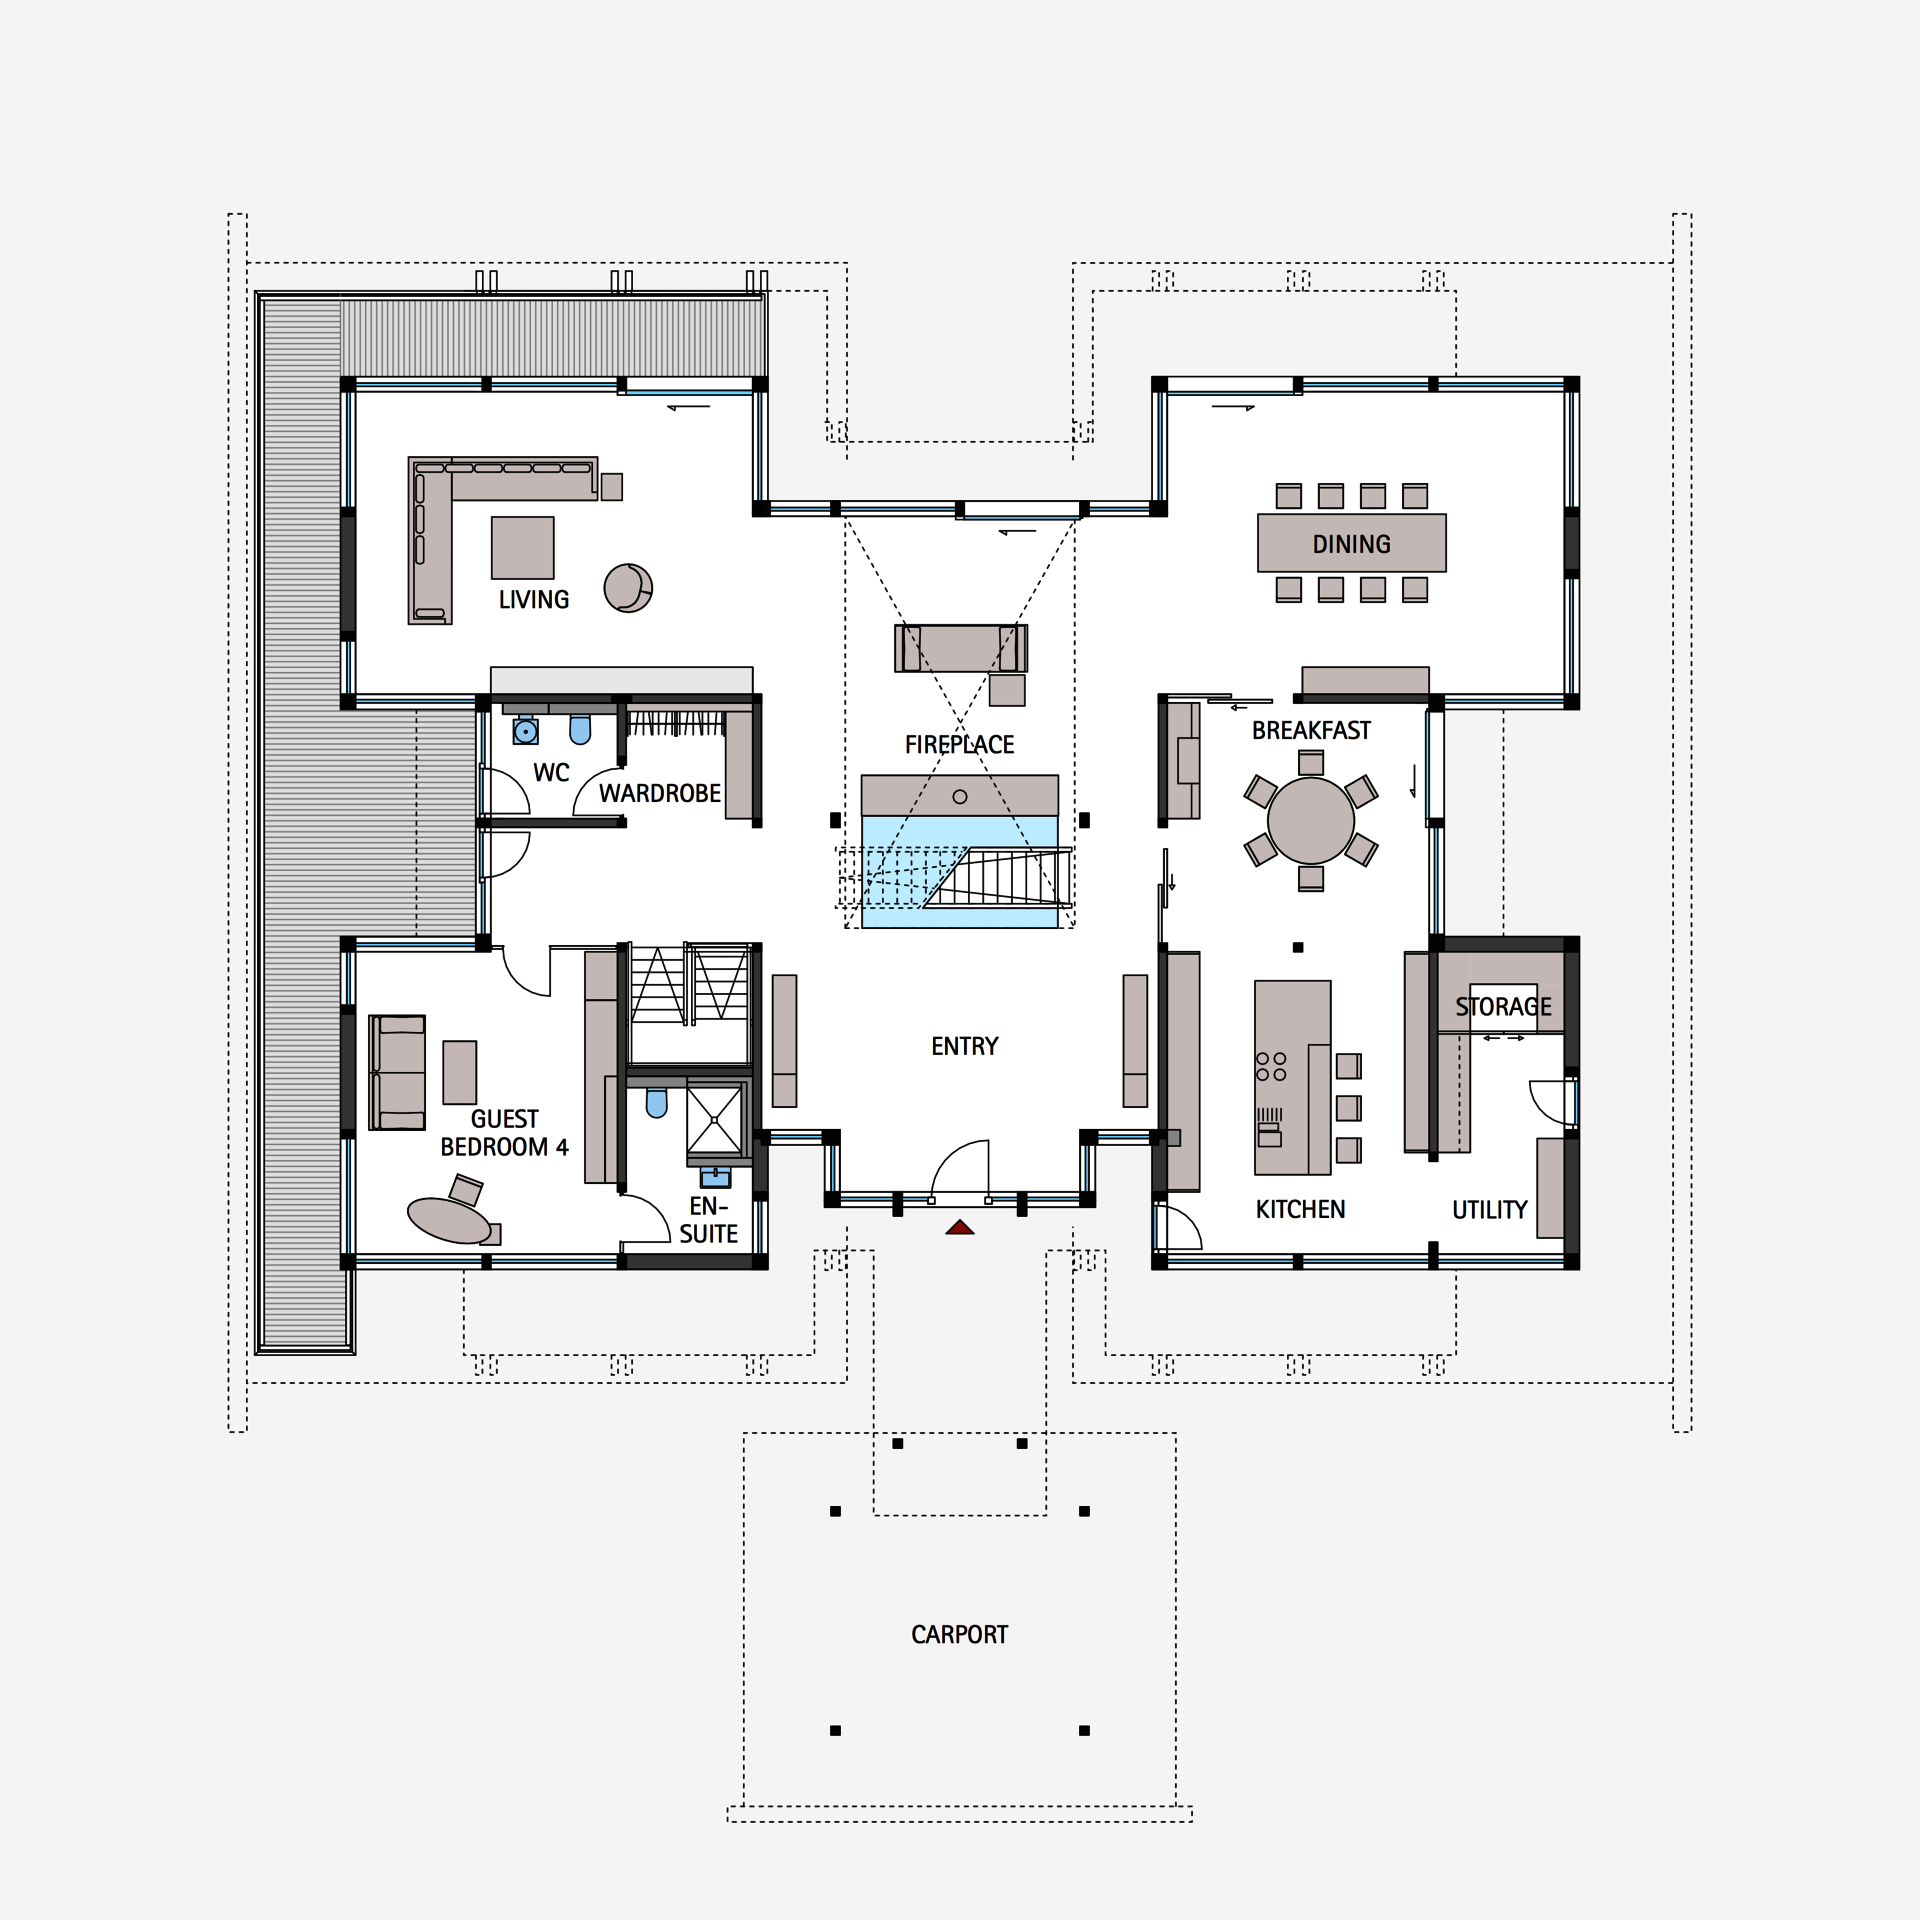door: (1510, 1073, 1567, 1131), (934, 1132, 992, 1187), (498, 828, 547, 884), (566, 767, 615, 823), (492, 763, 542, 818), (631, 1192, 680, 1247), (505, 948, 554, 1002), (1169, 1203, 1210, 1254)
